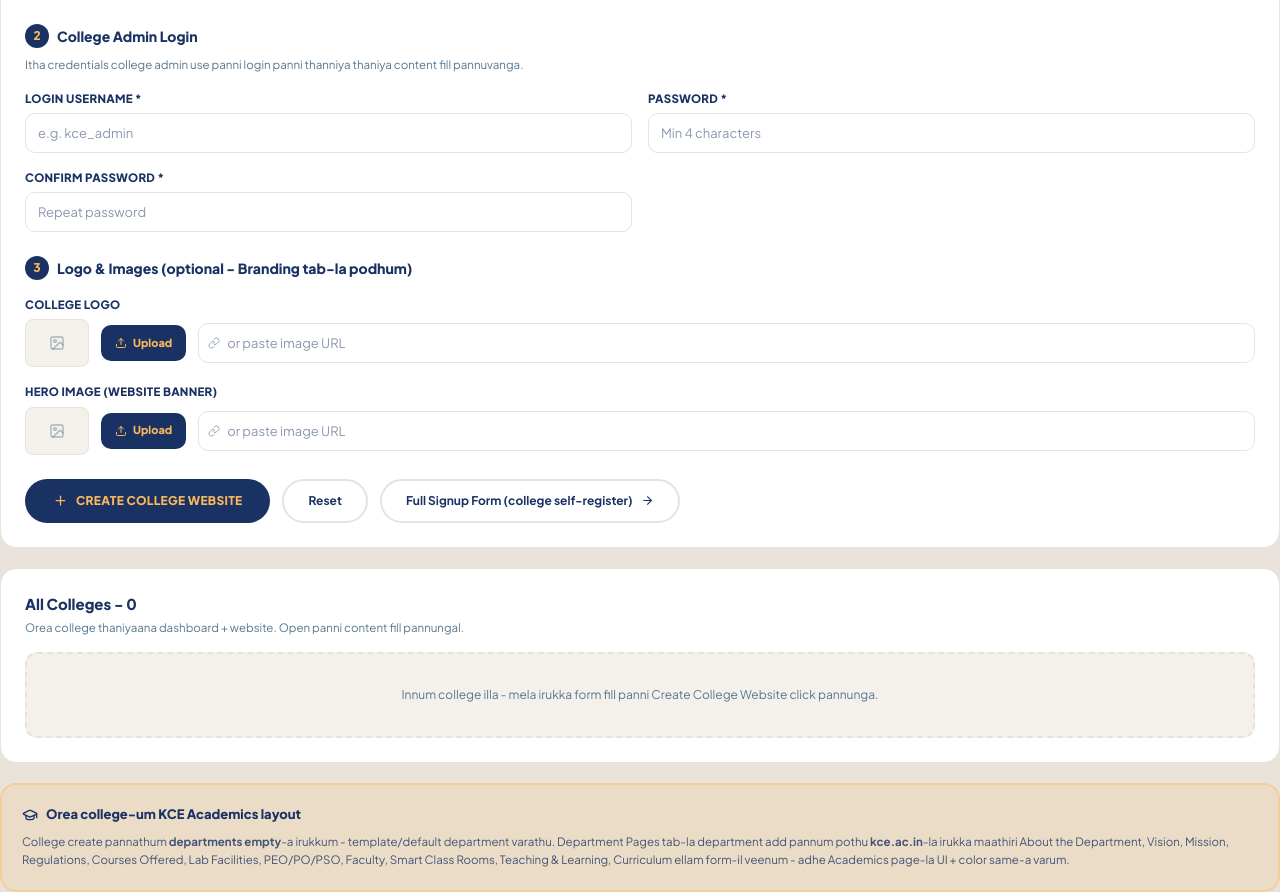
Test: Add College form (admin) › refuses to create when a required field is missing
(page scrolled)
Click the button "Create College Website". click: point(148, 500)
box: [25,478,270,522]
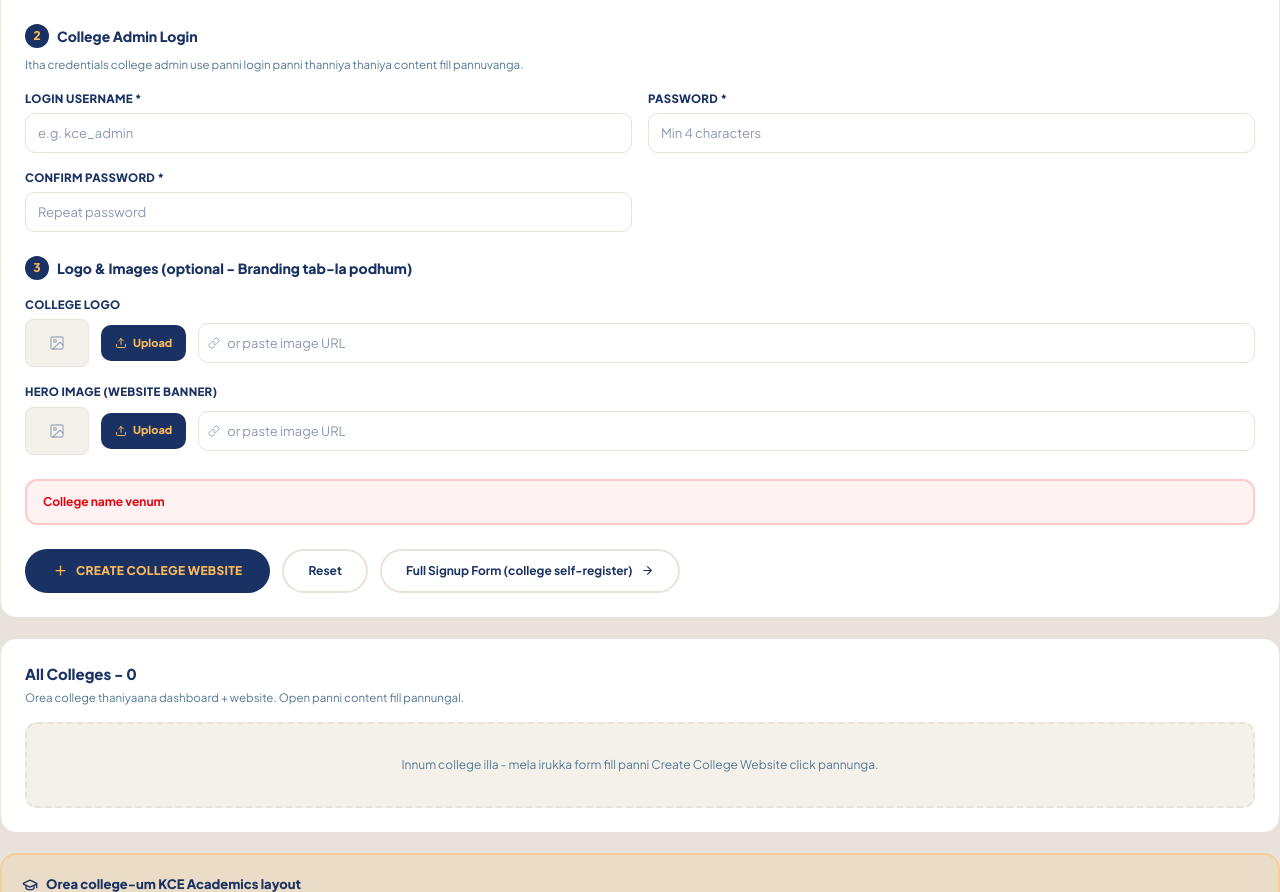
Expected: the text "College name venum" is shown, [25,478,1255,524]
